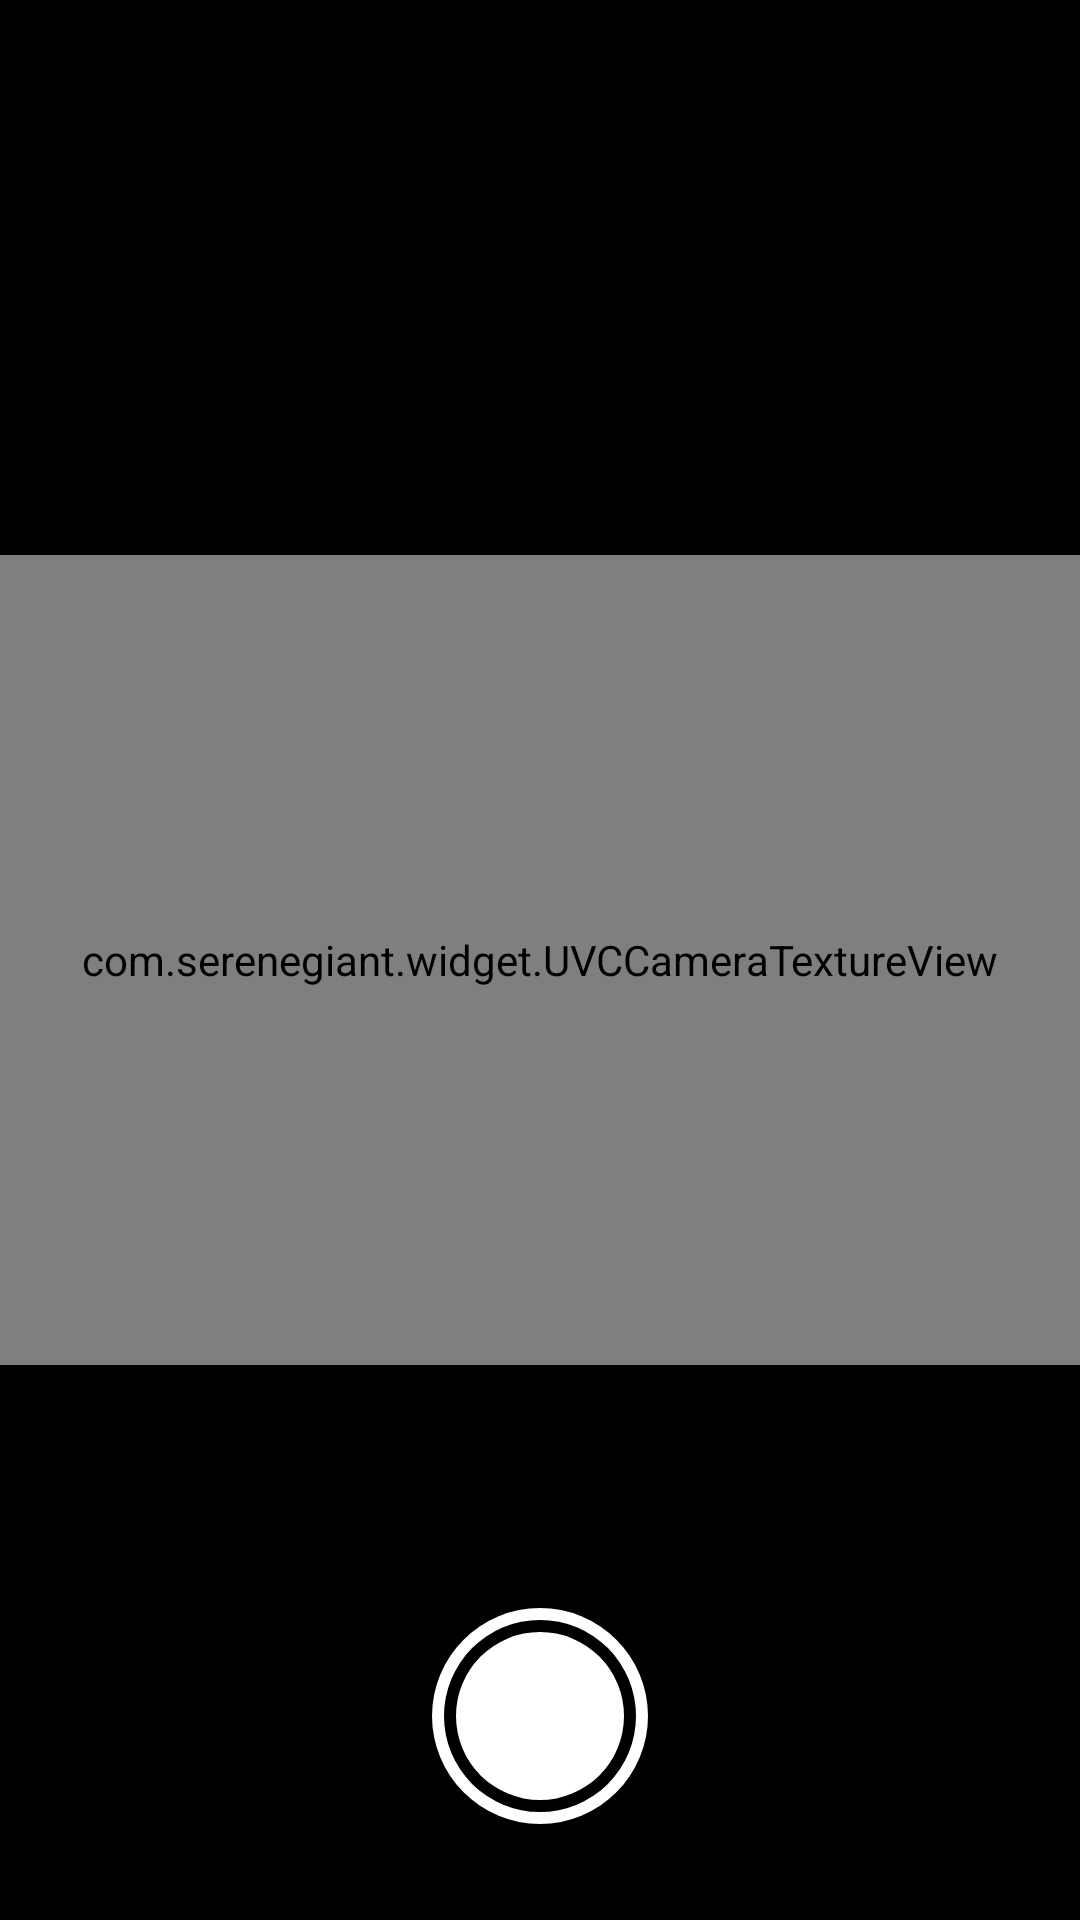

Icons on this 1080x1920 Android screen, each with its box as (x1, y1, x2, y2):
Capture Image: (432, 1608, 648, 1824)
